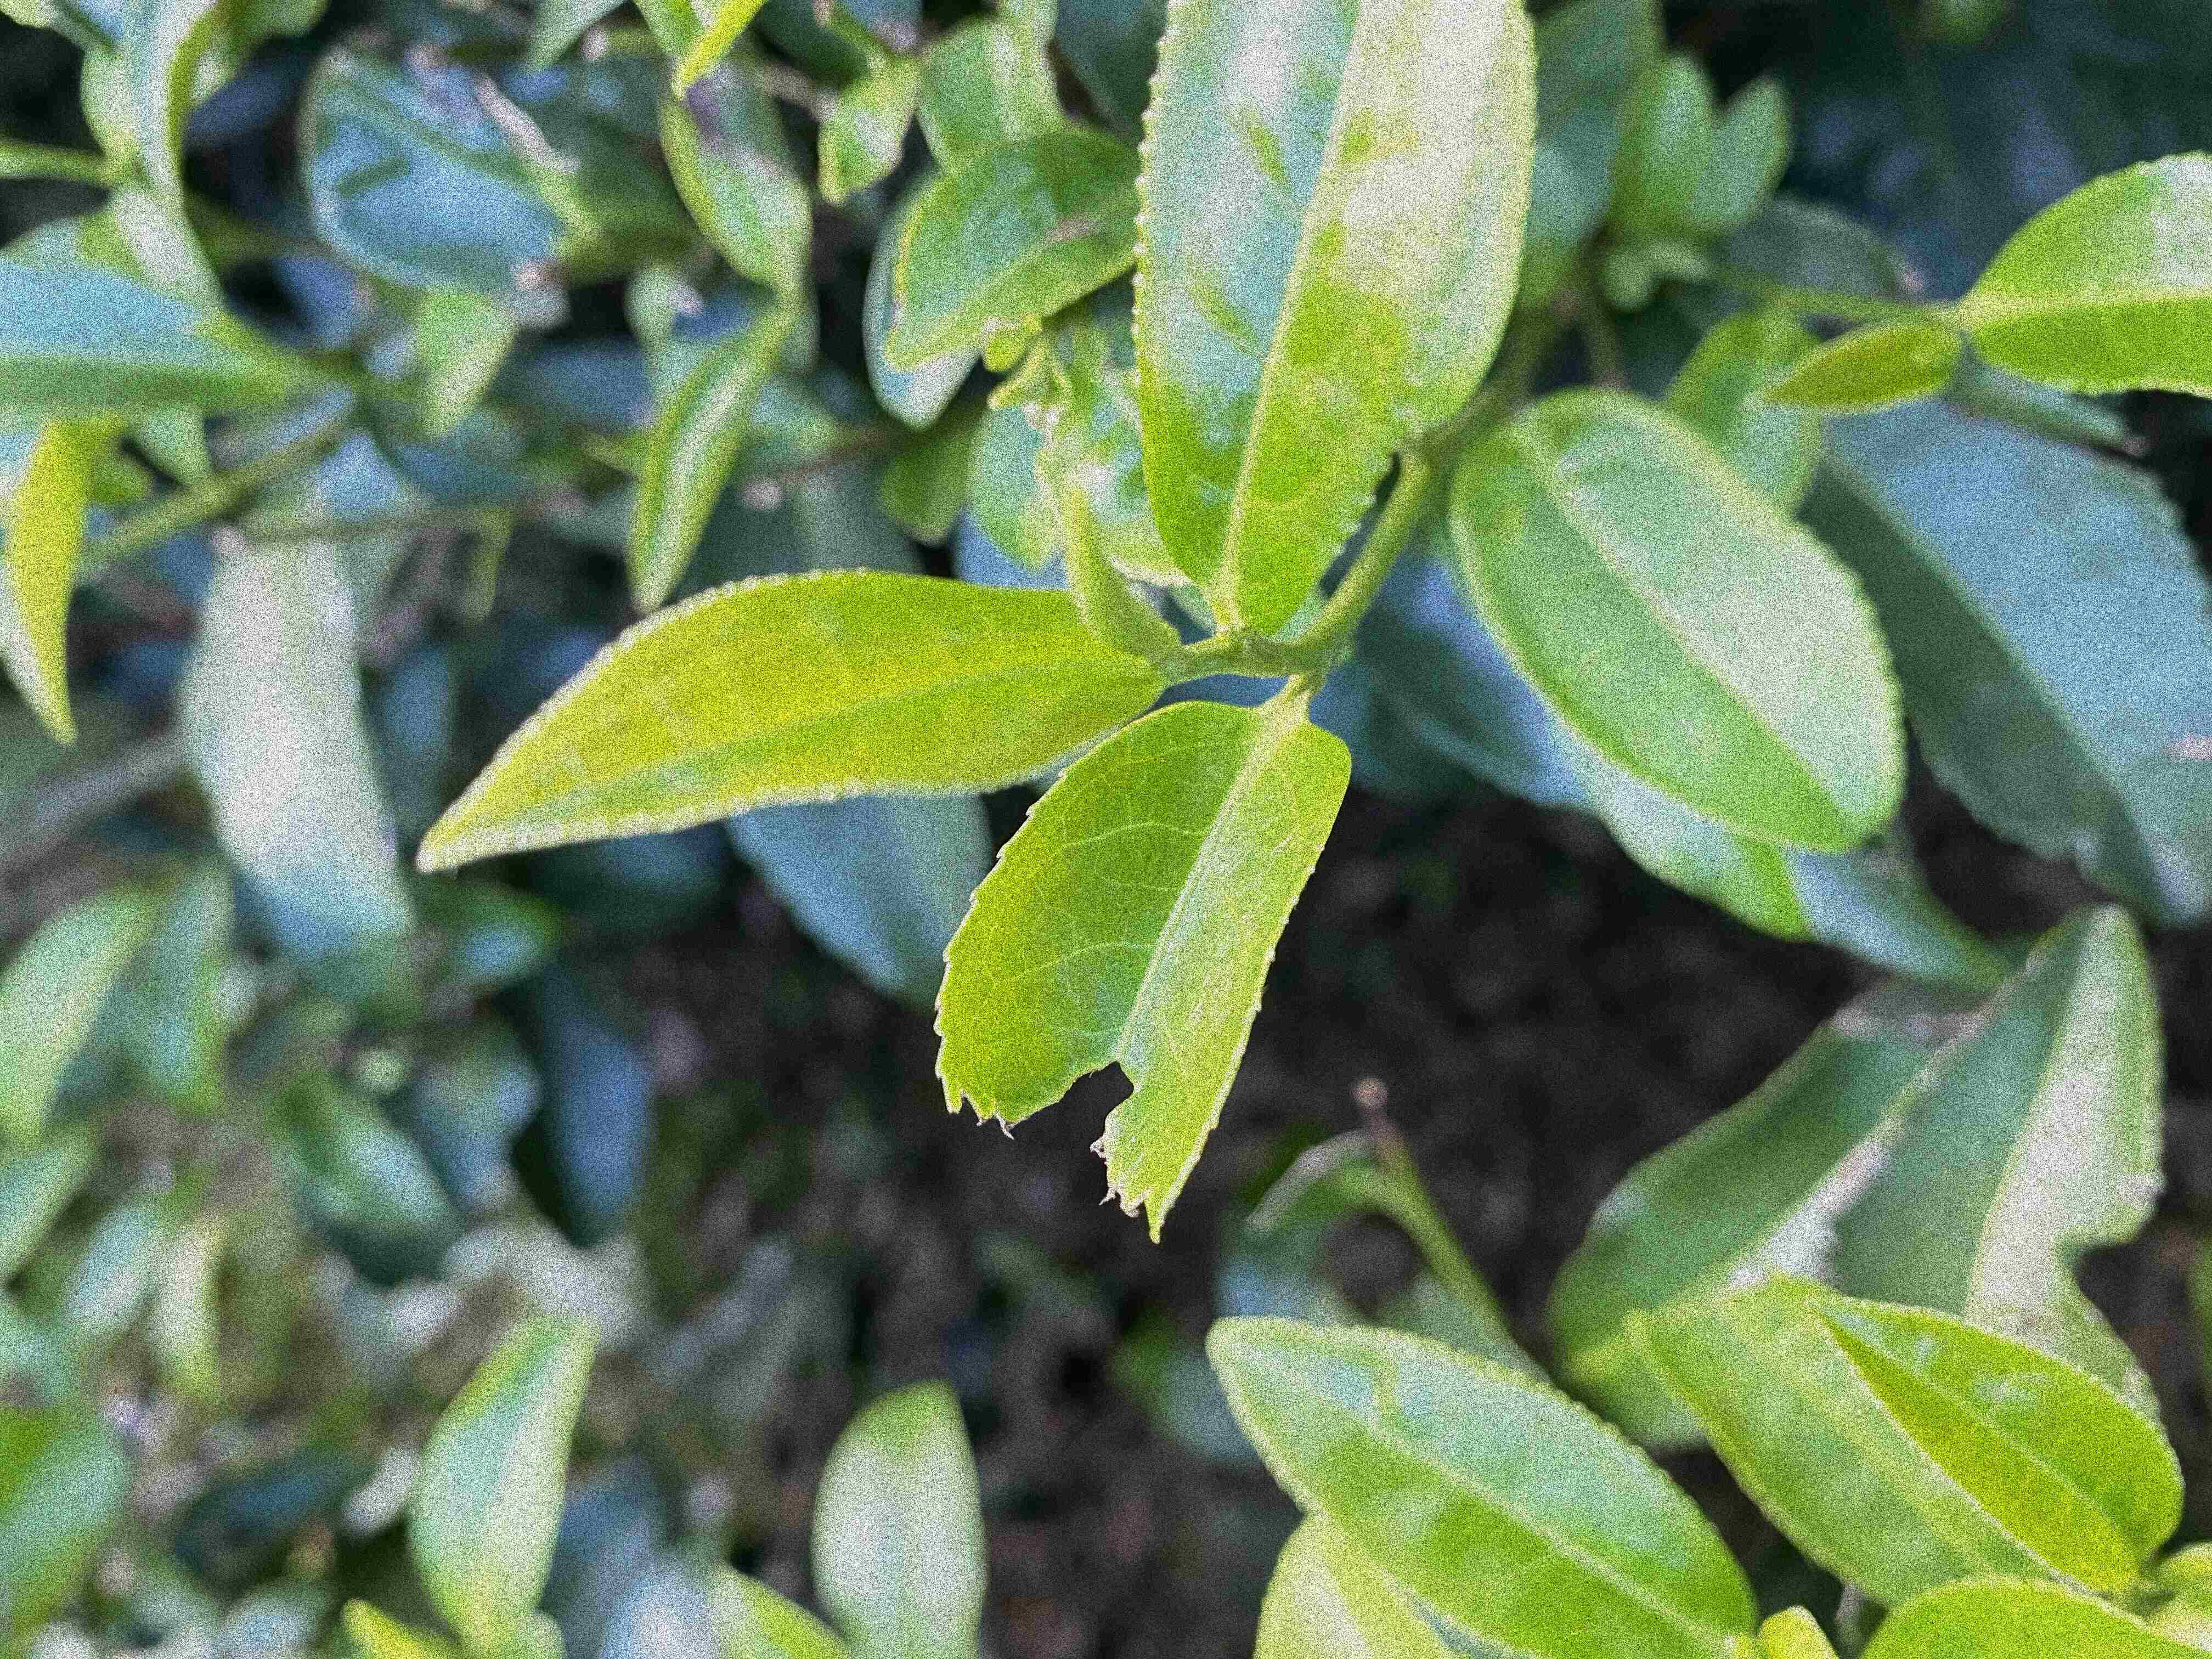chihuo_high: (928, 702, 1355, 1248)
healthy: (1127, 0, 1515, 634), (411, 566, 1162, 877), (1205, 1314, 1759, 1656), (1806, 1302, 2184, 1596)
